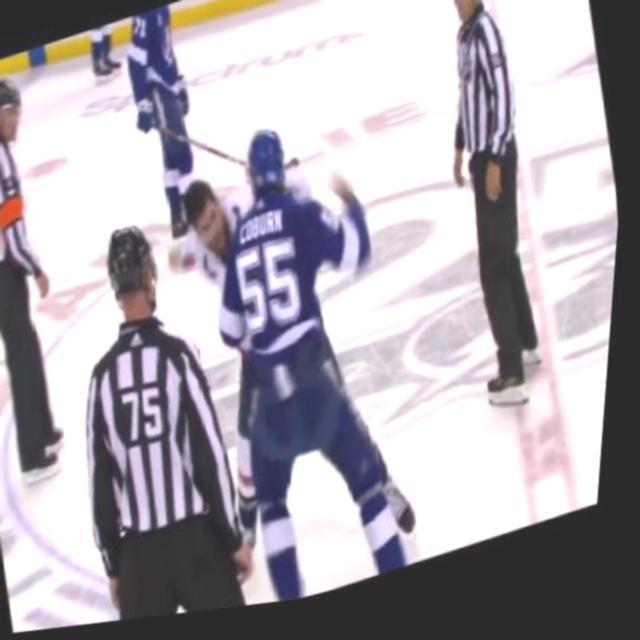fight: (129, 95, 458, 624)
